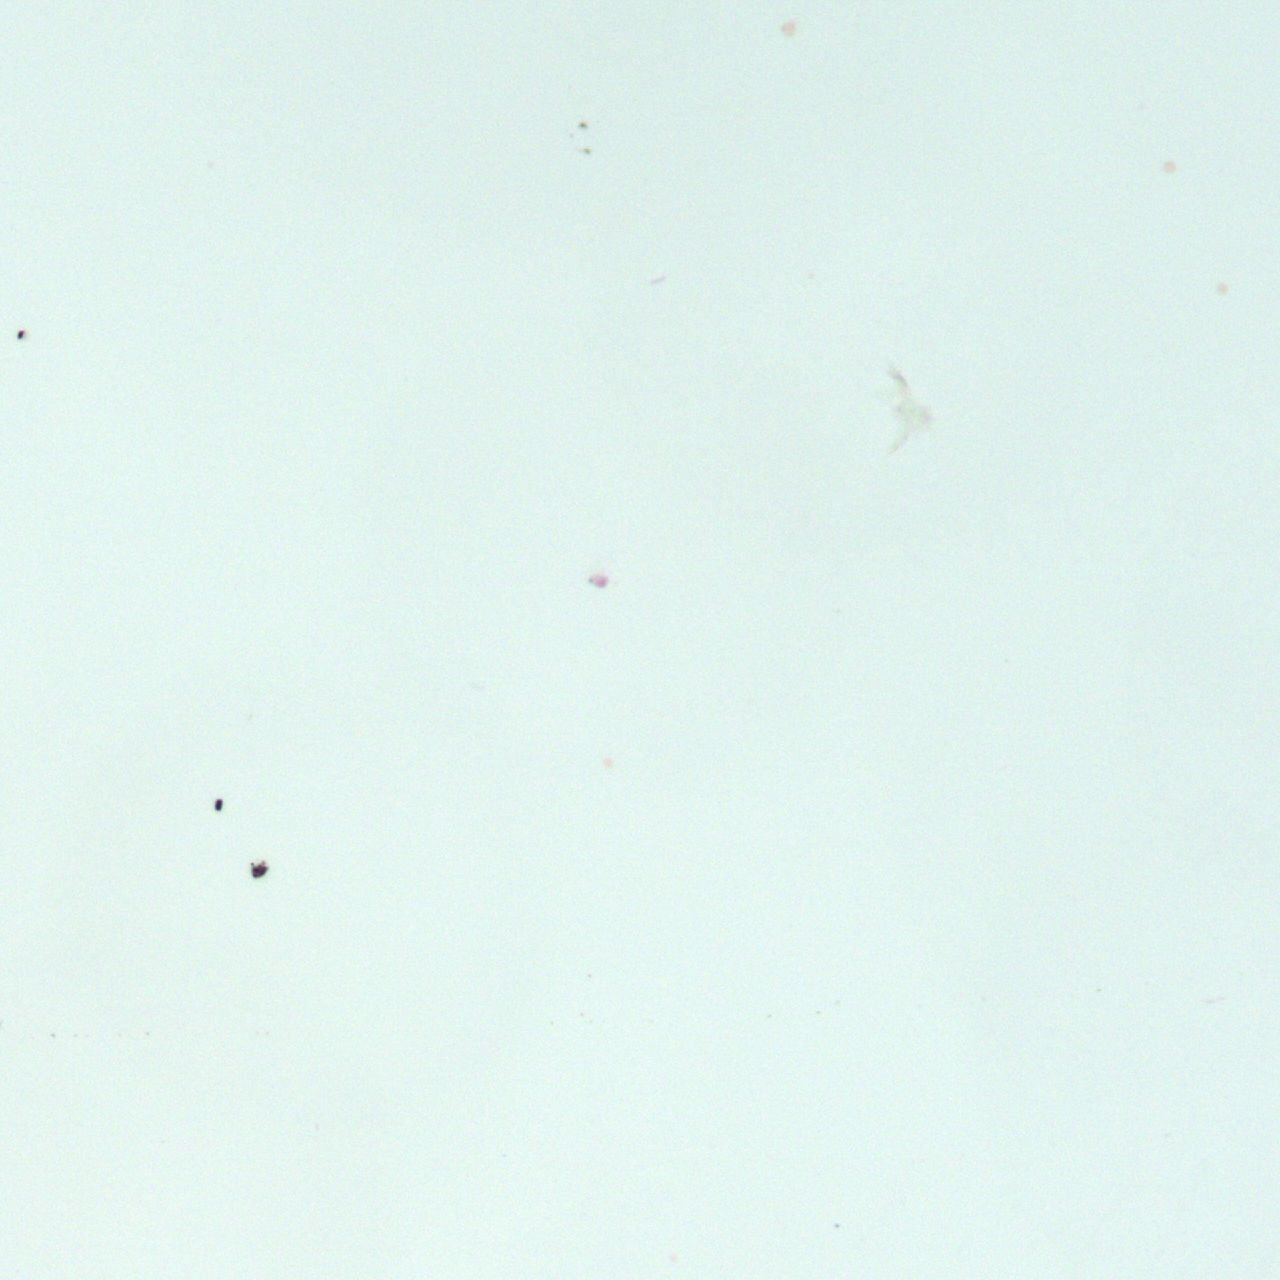dust: (248, 860, 268, 879), (215, 797, 223, 811), (18, 329, 25, 339)
